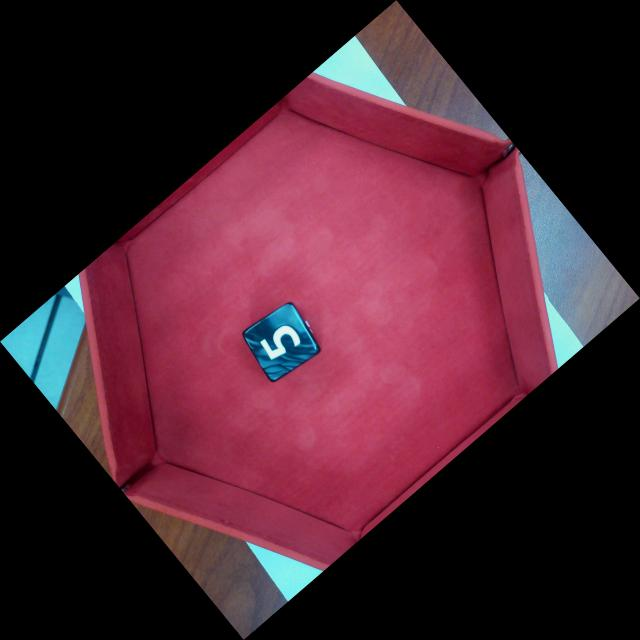dice: (238, 299, 323, 385)
